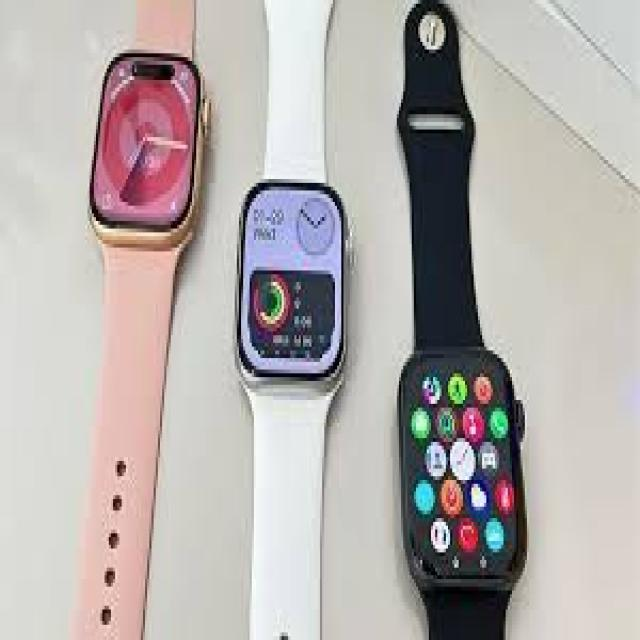objects: (73, 0, 212, 636), (397, 0, 528, 636), (237, 0, 347, 636)
